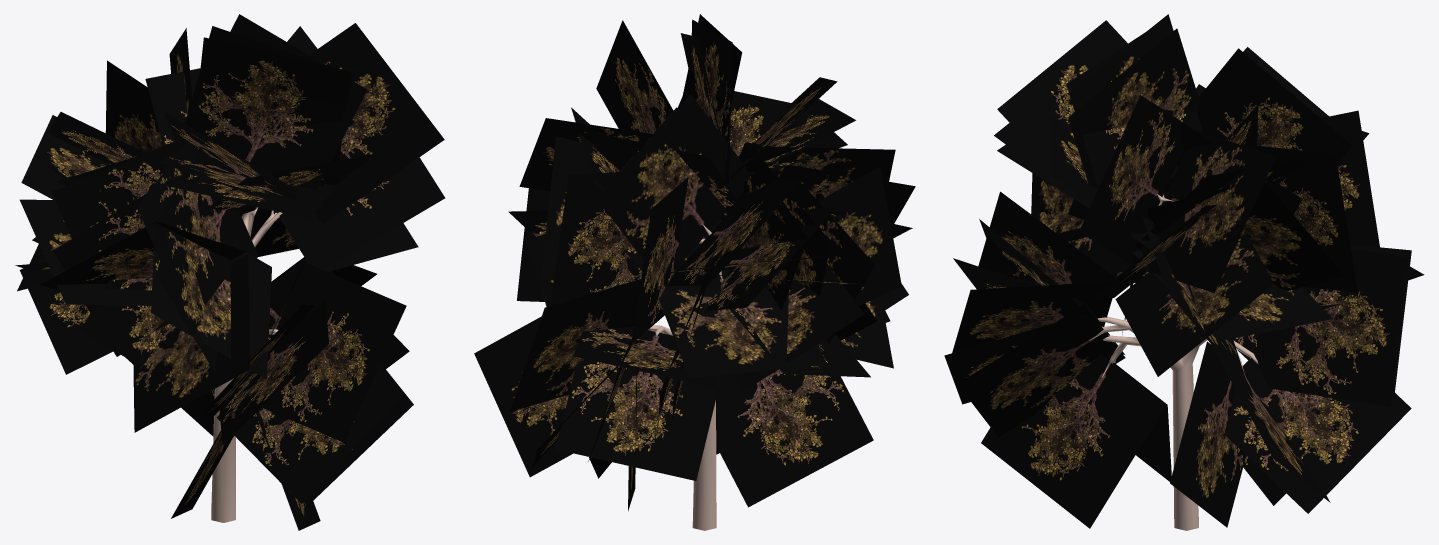
The model's file is tree46.glb.
3 renders of one model, left to right at view 1: azimuth 30°, elevation 25°; view 2: azimuth 150°, elevation 25°; view 3: azimuth 270°, elevation 25°, orthographic. The views are drawn at different scales.
Size of the model in its own units: 6.01 by 7.38 by 6.4.
Materials: 2 (1 with a texture image).
